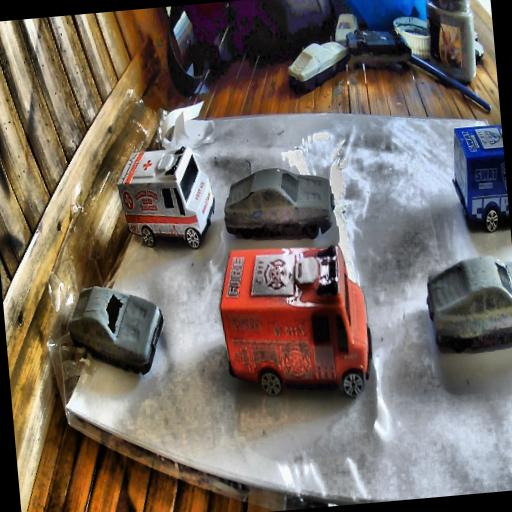ambulance: (114, 139, 220, 256)
fire_truck: (215, 237, 370, 408)
normal_car: (64, 280, 168, 382), (222, 163, 332, 247), (423, 254, 512, 356), (288, 37, 354, 97)
police car: (448, 124, 510, 236)
